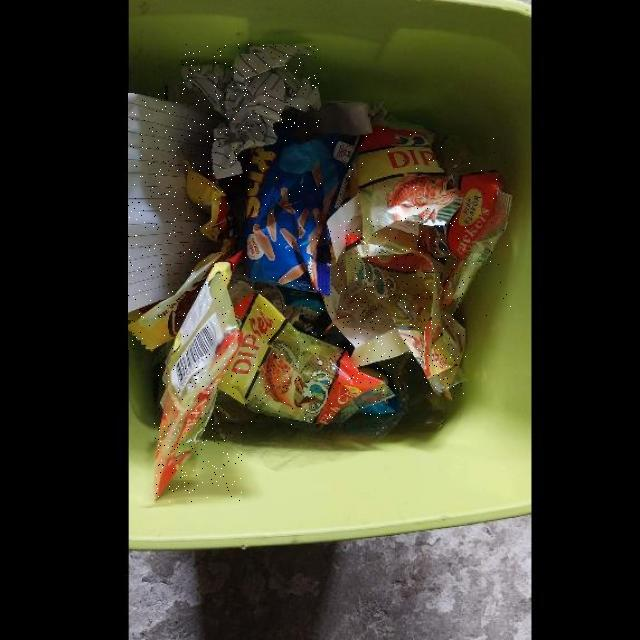paper: (181, 45, 321, 180), (128, 93, 213, 314)
wrapper: (219, 282, 395, 426), (338, 215, 466, 395), (154, 263, 242, 502), (243, 134, 365, 297), (417, 136, 513, 316), (359, 126, 462, 257), (128, 253, 223, 350), (181, 160, 229, 244)
